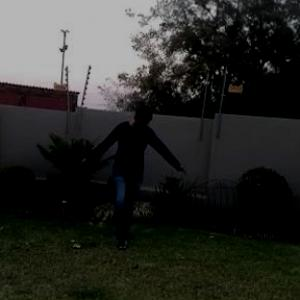land: (78, 100, 196, 255)
